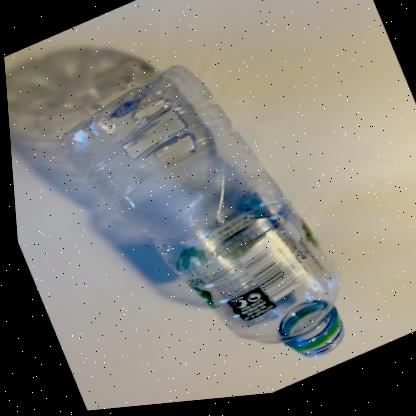Plastic: (59, 69, 339, 362)
